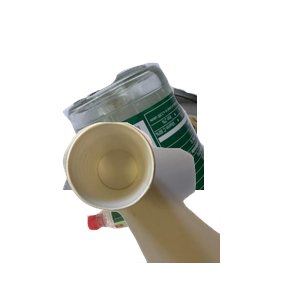glass: (60, 60, 300, 240)
metal: (60, 82, 300, 262)
plastic: (84, 191, 242, 300)
trash: (60, 120, 300, 300)
